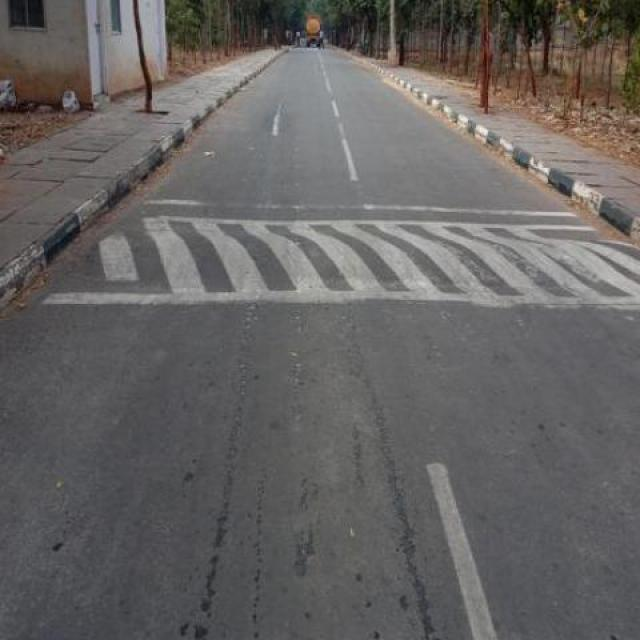Speed Bump: (53, 218, 639, 308)
